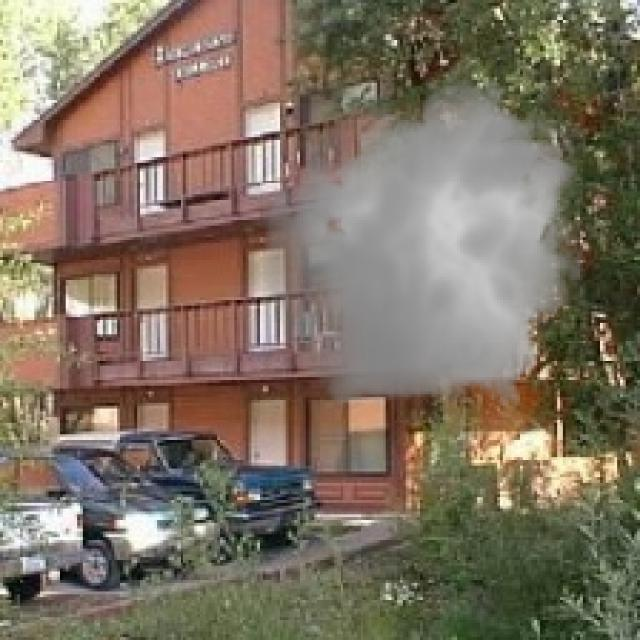Smoke: (252, 66, 597, 423)
